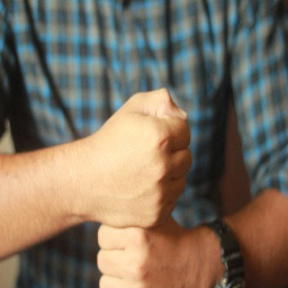G: (74, 83, 203, 288)
